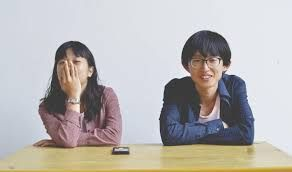no-mask: (180, 31, 232, 92), (49, 38, 102, 93)
